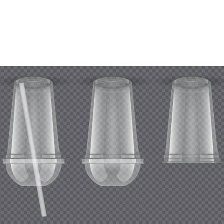glass: (0, 74, 70, 192), (79, 73, 146, 188), (157, 74, 221, 169), (16, 80, 51, 220)
